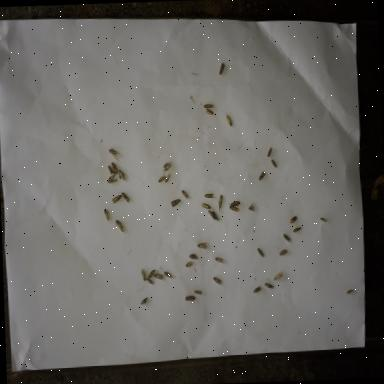pbw: (107, 146, 120, 161), (113, 218, 125, 234), (215, 193, 223, 214), (162, 268, 176, 280), (116, 166, 126, 182), (110, 191, 122, 204), (146, 267, 158, 279), (211, 274, 223, 286), (217, 60, 226, 76), (106, 174, 118, 186), (138, 267, 147, 283), (104, 164, 115, 177), (227, 198, 241, 208), (210, 208, 220, 222), (226, 204, 240, 214), (152, 271, 164, 282), (196, 240, 209, 250), (201, 190, 214, 200), (224, 110, 232, 126), (121, 190, 130, 204), (206, 207, 215, 221), (202, 101, 216, 110), (272, 270, 284, 280), (169, 198, 181, 208), (138, 295, 150, 305), (281, 232, 291, 244), (183, 293, 196, 302), (109, 161, 117, 175), (103, 208, 111, 222), (156, 172, 166, 183), (288, 213, 298, 224), (252, 283, 262, 294), (263, 280, 274, 290), (145, 274, 154, 286), (180, 188, 189, 200), (257, 169, 266, 181), (247, 201, 256, 213), (265, 145, 273, 158), (200, 201, 210, 211), (204, 106, 214, 116), (163, 171, 171, 183), (192, 288, 204, 296), (256, 246, 264, 258), (187, 252, 198, 260), (214, 256, 224, 264), (278, 248, 288, 256), (160, 160, 170, 168), (184, 260, 194, 268), (345, 286, 355, 294), (292, 226, 302, 234), (319, 216, 329, 224), (270, 158, 277, 168)
